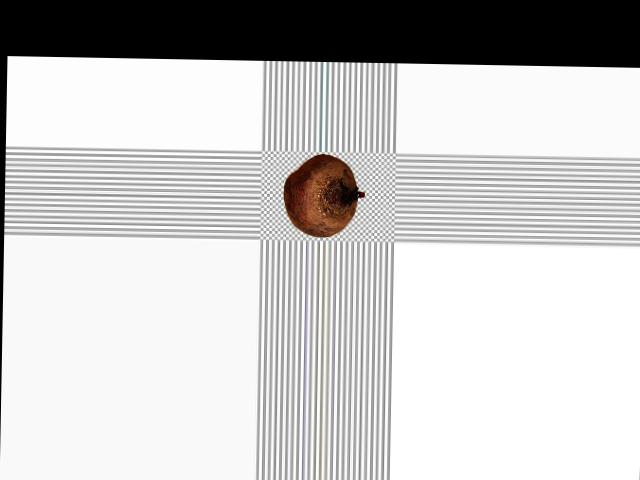beet: (283, 153, 366, 237)
